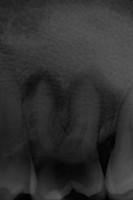Furcation Involvement: (19, 67, 122, 132)
